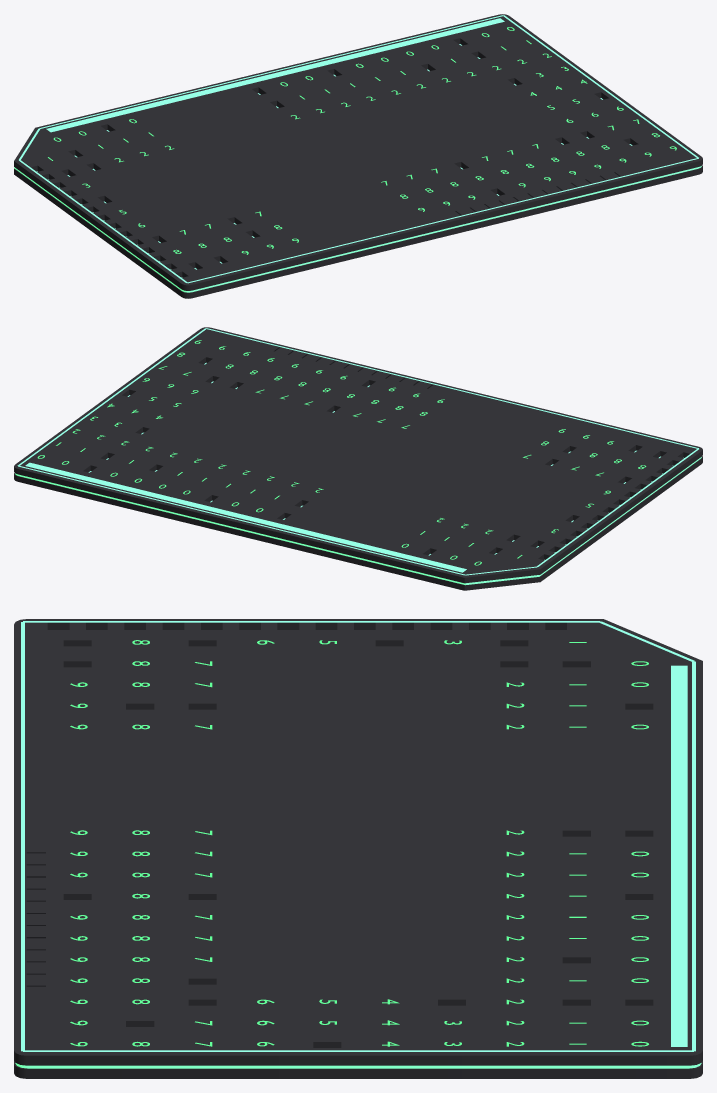
File: data_punch_card.glb
3 views of the same model, one above another, from view 1: azimuth 30°, elevation 25°; view 2: azimuth 150°, elevation 25°; view 3: azimuth 270°, elevation 25° (orthographic). The views are drawn at different scales.
Parts seen in each view (by area): view 1: Koerper, Kern, Saum, Druck; view 2: Koerper, Kern, Saum, Druck; view 3: Koerper, Kern, Saum, Druck.
Part boxes in pixels (x1,y1,x2,y2): Koerper: (14, 14, 702, 298); Kern: (14, 18, 701, 292); Saum: (19, 15, 698, 283); Druck: (48, 27, 676, 254); Koerper: (14, 327, 702, 590); Kern: (15, 362, 701, 585); Saum: (17, 328, 698, 575); Druck: (37, 340, 646, 565); Koerper: (14, 619, 702, 1078); Kern: (15, 665, 701, 1068); Saum: (21, 621, 695, 1051); Druck: (70, 640, 648, 1046).
Size of the model in its own units: 1.62 by 0.0415 by 1.08.
